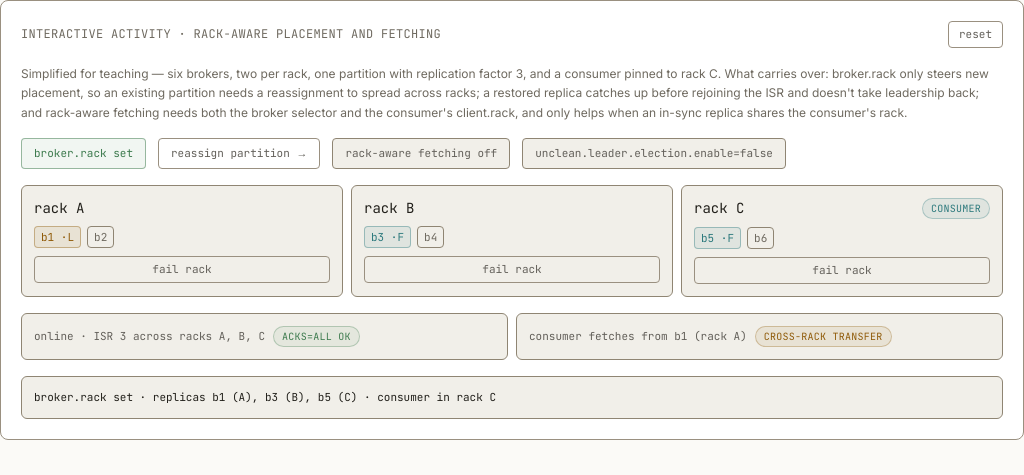
Test case: RackPlacementDemo › rack-aware placement spreads one replica per rack and survives a rack failure
Click the button "fail rack" below "·L".
click(182, 269)  # box [34,256,330,282]
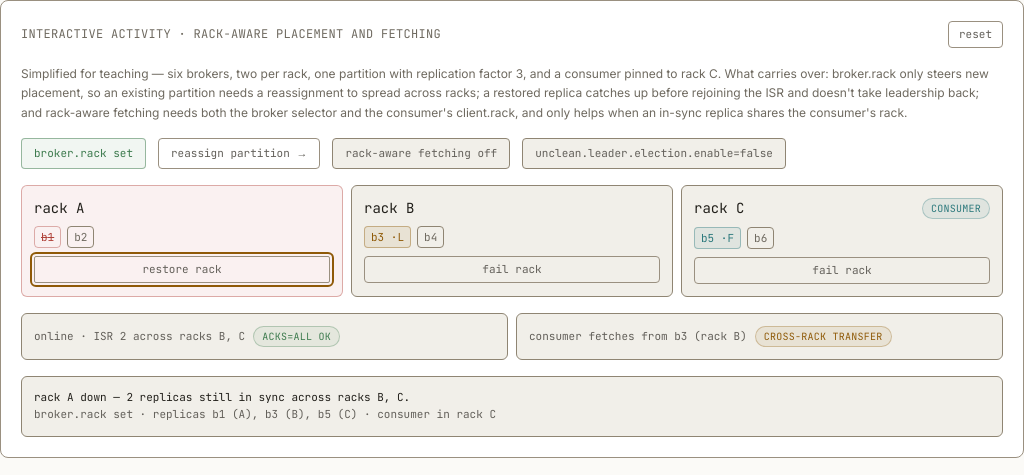
Check: the text "acks=all OK" is shown, box [253,326,340,346]
Check: the text with test id "partition-status" reads "online · ISR 2 across racks B, C", box [34,329,245,343]
